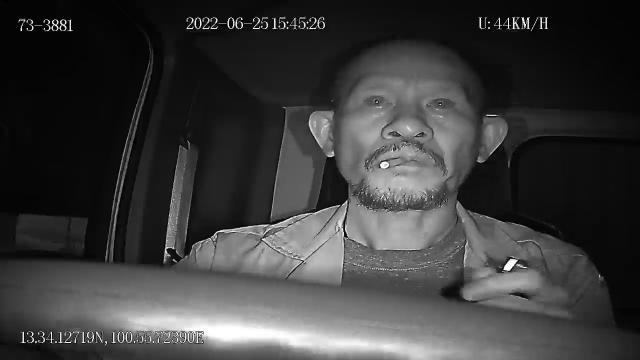SafeDriving: (416, 87, 461, 119), (358, 85, 398, 116)
Smoking: (378, 158, 406, 170)
